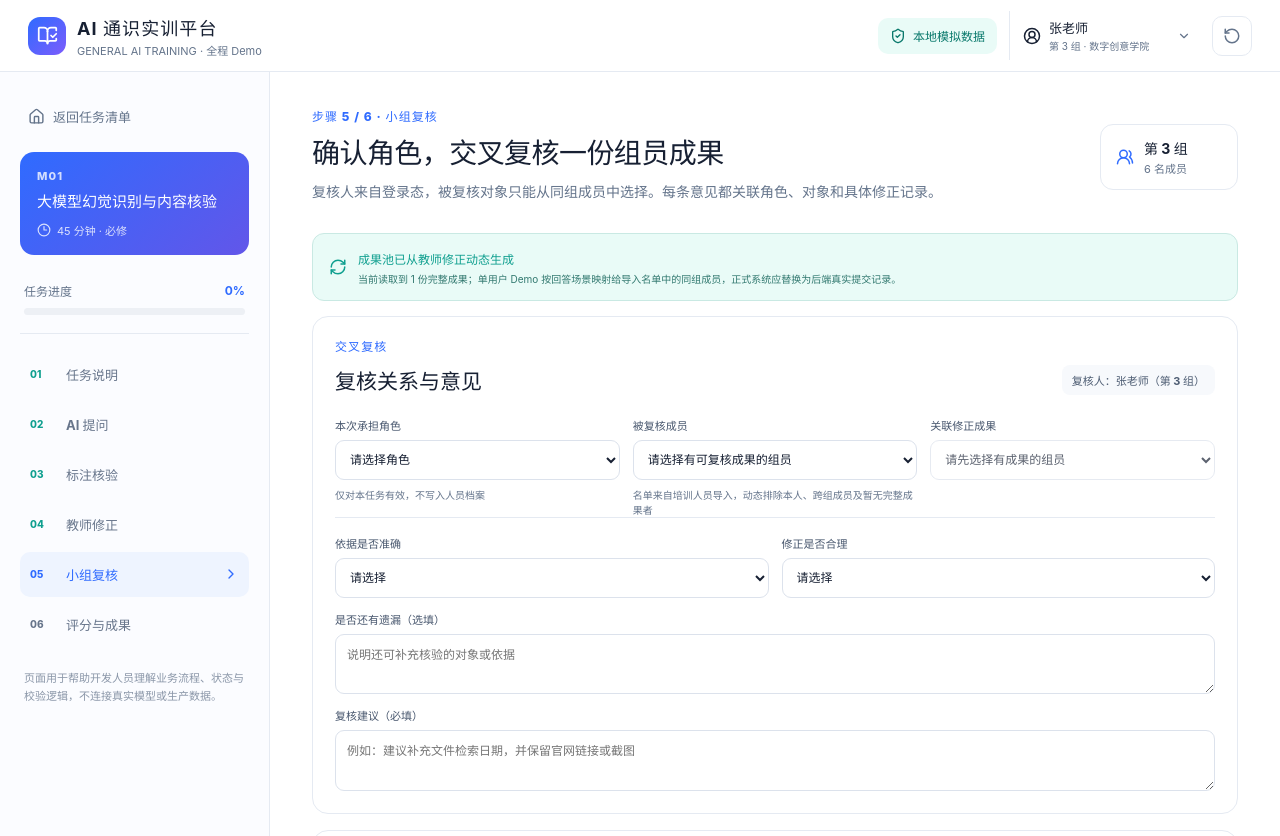
Test case: AI 通识实训平台 Demo 关键交互 › 小组复核成果由前一步完整教师修正动态生成
Select "王老师（智能制造学院）" in the dropdown labelled "被复核成员 名单来自培训人员导入，动态排除本人、跨组成员及暂无完整成果者" at (775, 460), box [633,440,917,480]
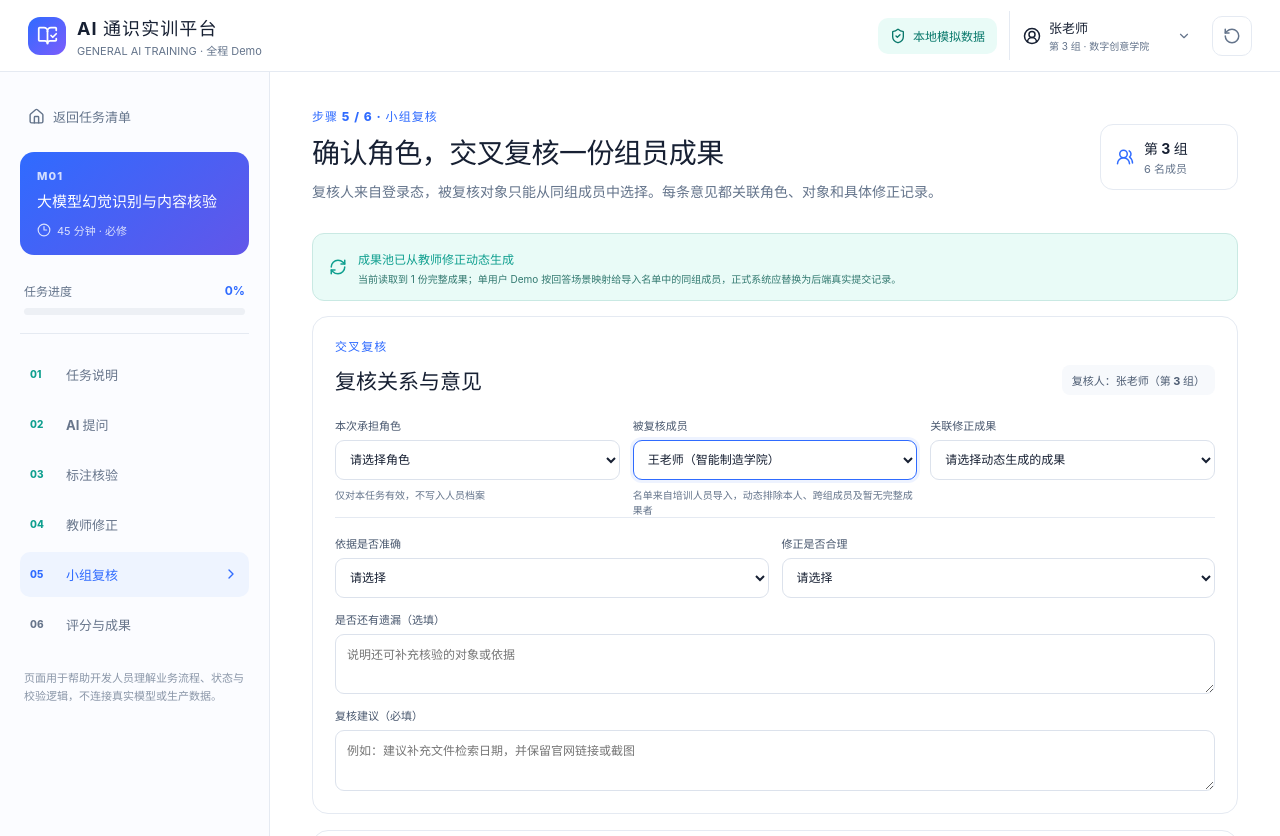
Select "回答 B · 课堂安全 · 错误步骤" in the dropdown labelled "关联修正成果" at (1073, 460), box [930,440,1215,480]
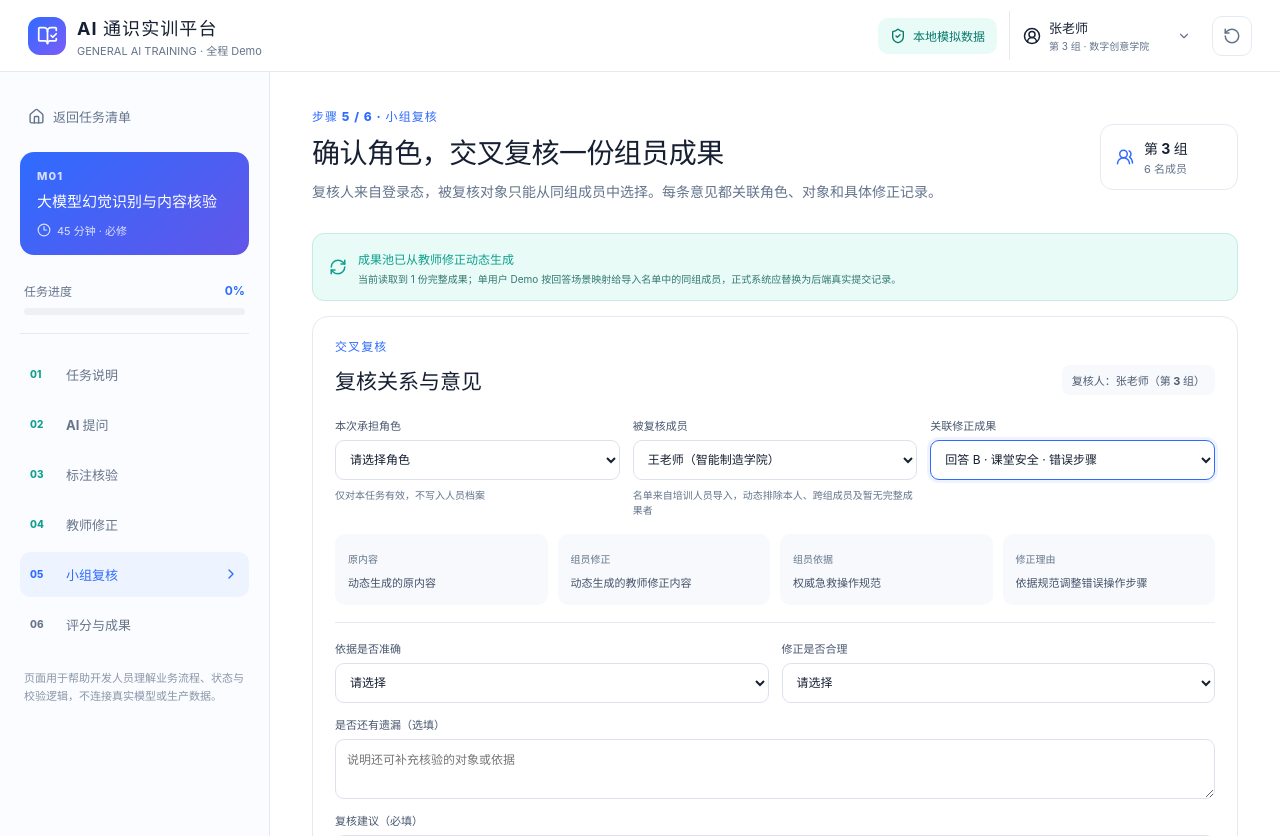
Now the text "动态生成的原内容" is shown, box [348,576,436,590]
Now the text "动态生成的教师修正内容" is shown, box [570,576,692,590]
Now the text "依据规范调整错误操作步骤" is shown, box [1016,576,1148,590]
